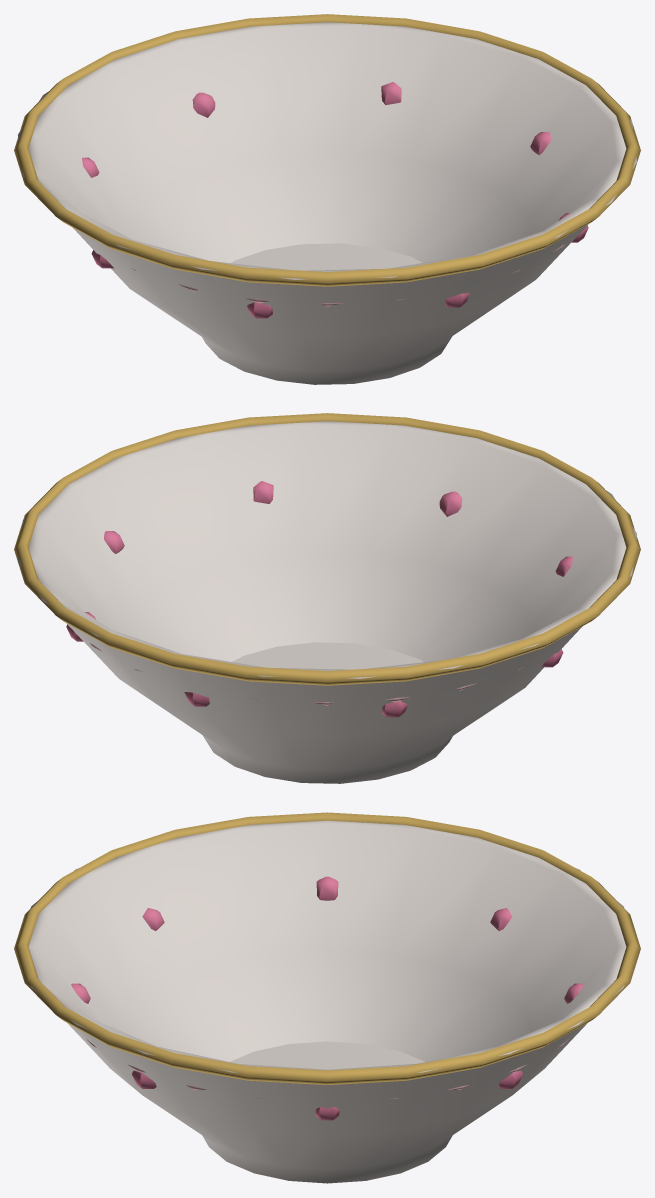
Rendered from porcelain_bowl.glb.
3 views of the same model, one above another, from view 1: azimuth 30°, elevation 25°; view 2: azimuth 150°, elevation 25°; view 3: azimuth 270°, elevation 25° (orthographic).
Parts seen in each view (by area): view 1: porcelain_bowl; view 2: porcelain_bowl; view 3: porcelain_bowl.
Boxes of the visible parts, x1,y1,x2,y2 form: porcelain_bowl: (14,14,640,384); porcelain_bowl: (14,413,640,783); porcelain_bowl: (14,812,640,1183).
Size of what is drawn, in the model's own units: 0.3 by 0.1 by 0.3.
